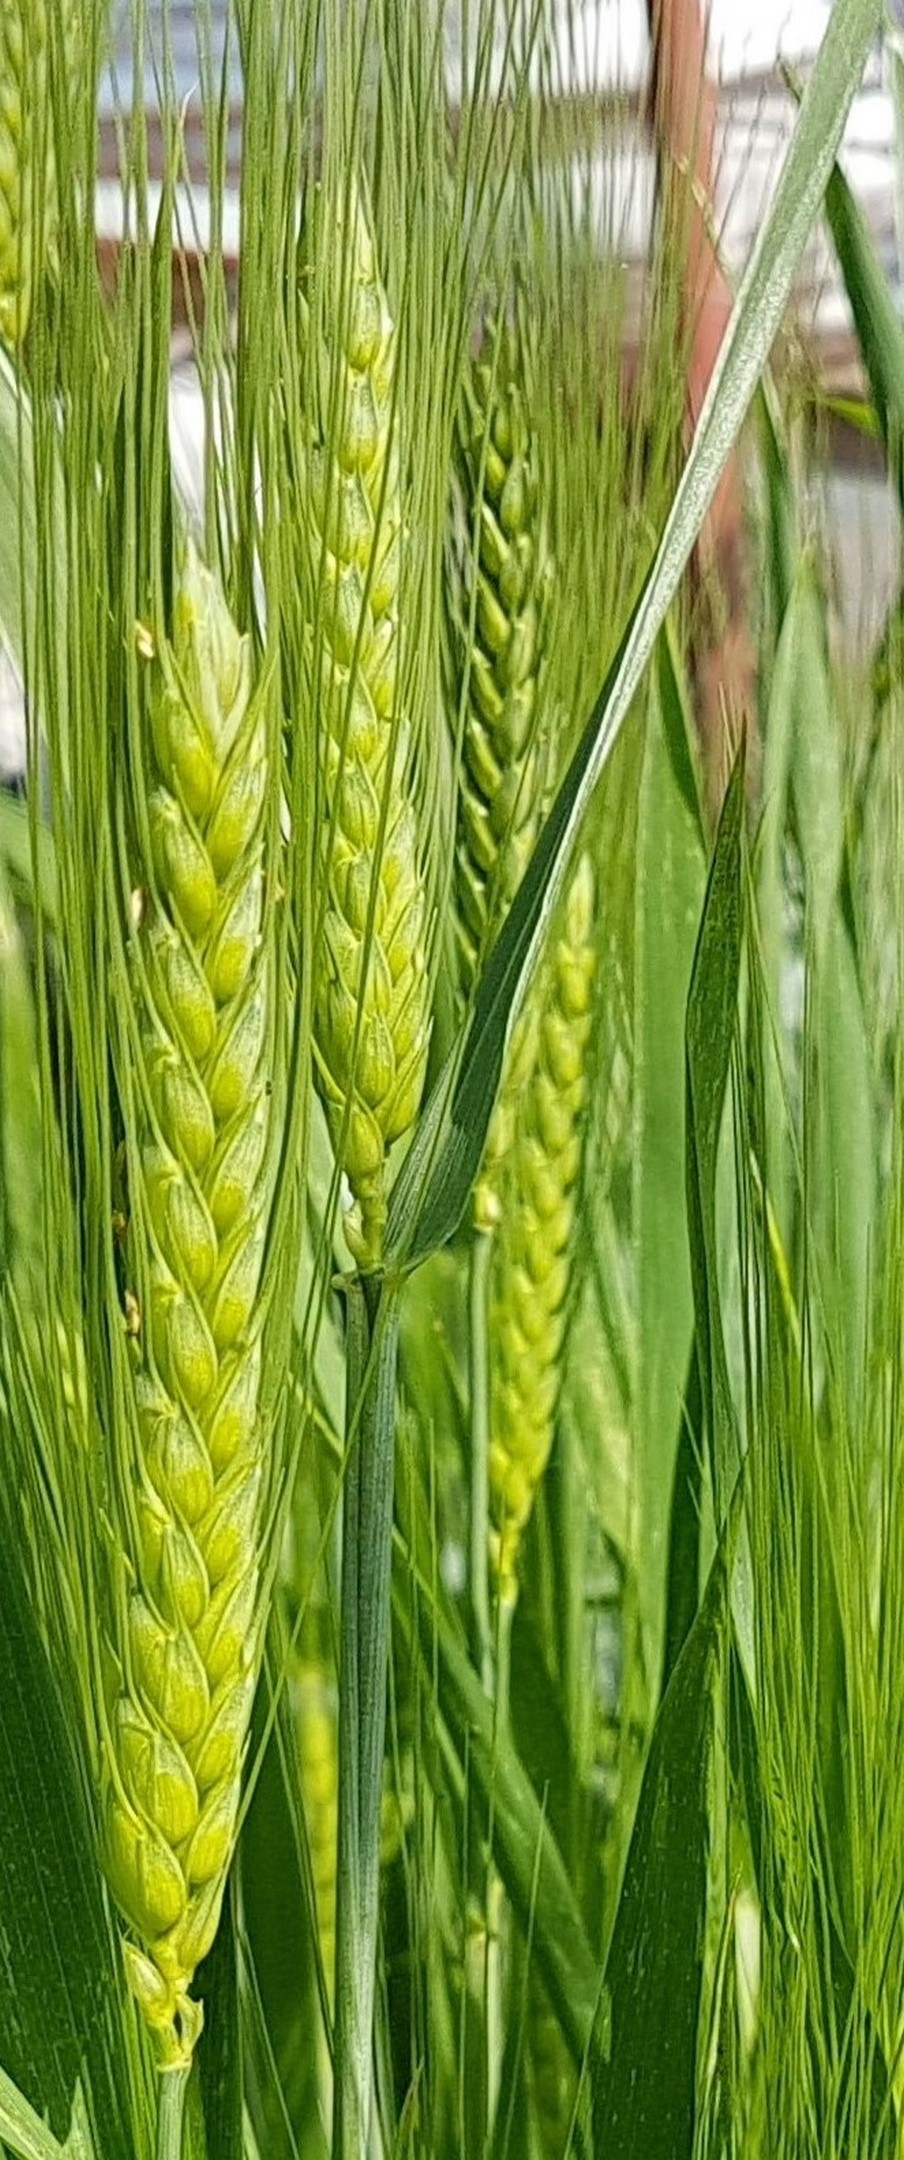Healthy Wheat: (81, 584, 281, 2015)
